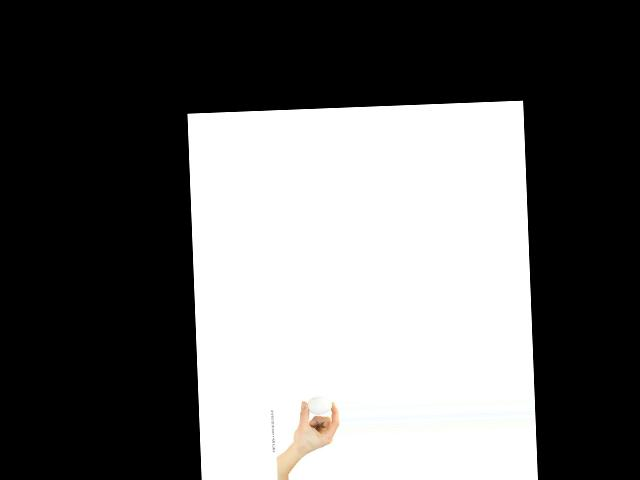egg: (306, 397, 332, 415)
